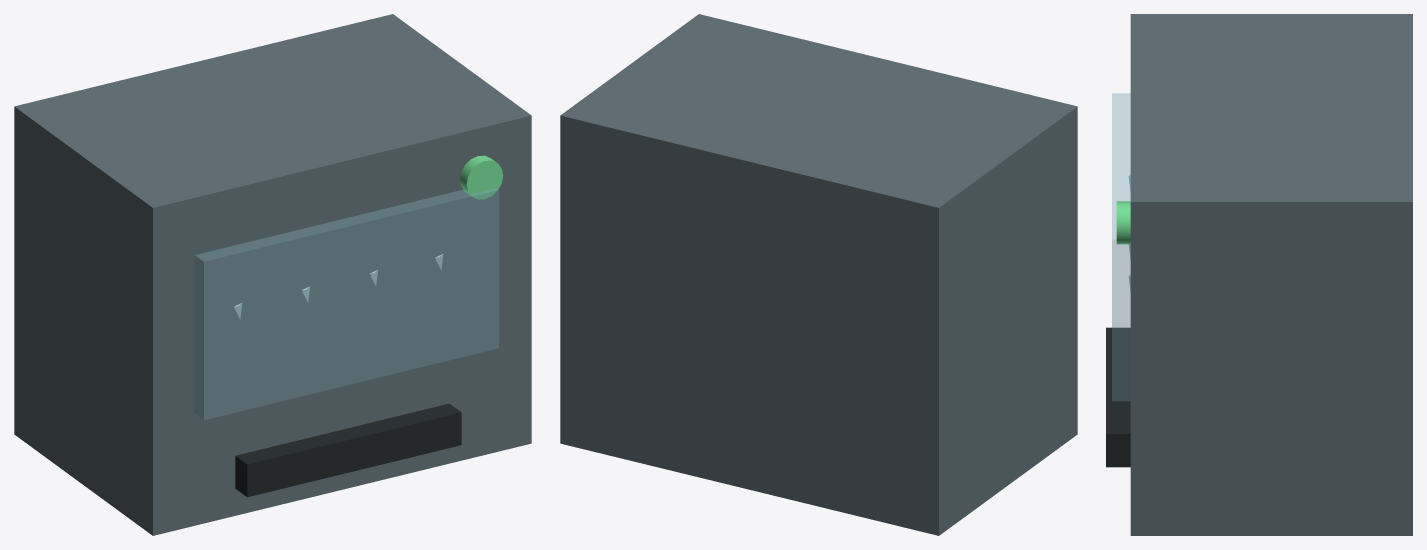
File: ice-machine.glb
The picture shows the model from 3 angles, left to right: view 1: azimuth 30°, elevation 25°; view 2: azimuth 150°, elevation 25°; view 3: azimuth 270°, elevation 25°; orthographic projection.
Parts seen in each view (by area): view 1: SteelBody, IceWindow, Vent, ReadyLight; view 2: SteelBody; view 3: SteelBody, IceWindow, Vent, ReadyLight.
Part boxes in pixels (x1,y1,x2,y2): SteelBody: (14, 14, 531, 535); IceWindow: (195, 188, 498, 419); Vent: (235, 403, 461, 497); ReadyLight: (460, 155, 503, 199); SteelBody: (560, 14, 1077, 535); SteelBody: (1130, 14, 1412, 535); IceWindow: (1112, 93, 1130, 400); Vent: (1106, 327, 1130, 467); ReadyLight: (1116, 201, 1130, 244).
Size of the model in its own units: 1.45 by 1.2 by 1.
